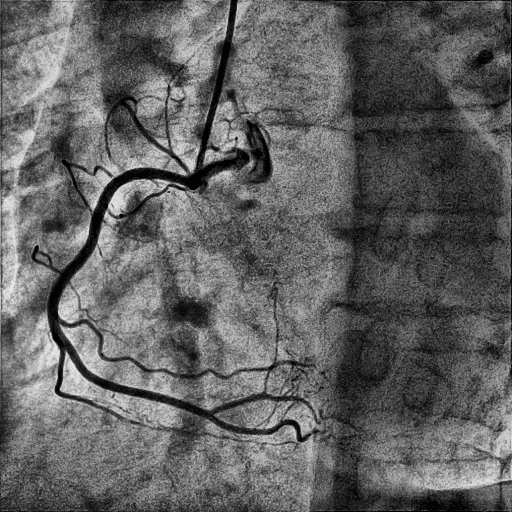pborca: (212, 392, 317, 422)
pda: (209, 415, 333, 443)
rca: (48, 167, 213, 420)
